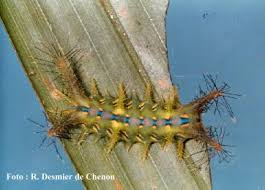Pest! (nettle_caterpillar): (41, 63, 214, 154)
